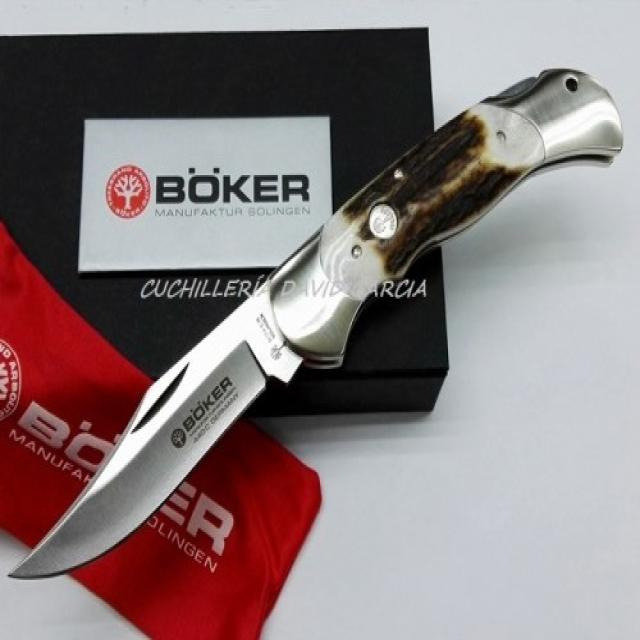knife: (8, 64, 623, 587)
